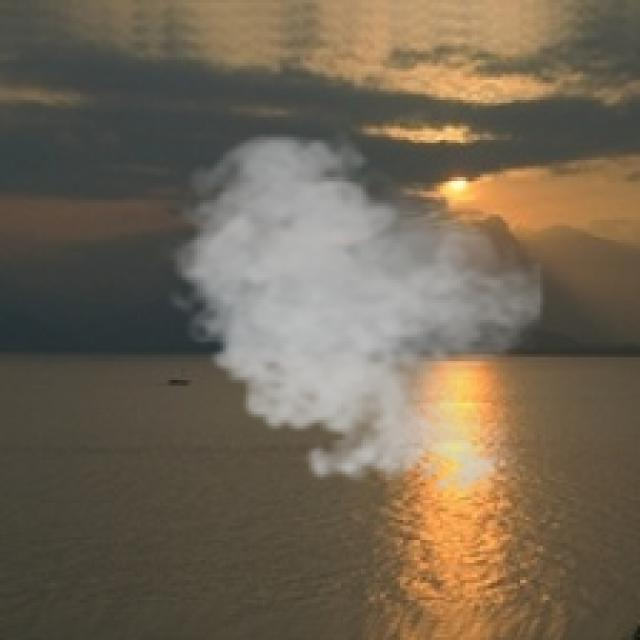smoke: (160, 126, 546, 506)
